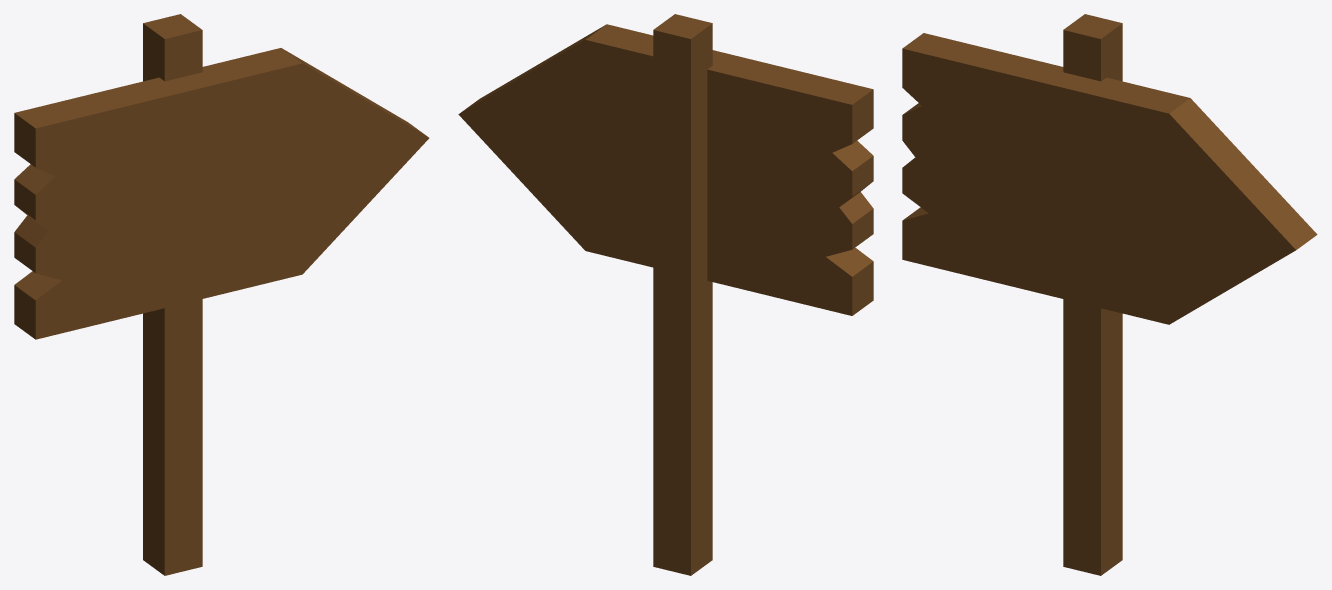
The model's file is Sign_Single.fbx.
3 views of the same model, side by side, from view 1: azimuth 30°, elevation 25°; view 2: azimuth 150°, elevation 25°; view 3: azimuth 330°, elevation 25° (orthographic).
Visible parts, largest first — view 1: Sign_Single; view 2: Sign_Single; view 3: Sign_Single.
Part boxes in pixels (x1,y1,x2,y2): Sign_Single: (14, 14, 429, 575); Sign_Single: (458, 14, 873, 575); Sign_Single: (902, 14, 1317, 575).
Size of the model in its own units: 1.92 by 2.51 by 0.3188.
